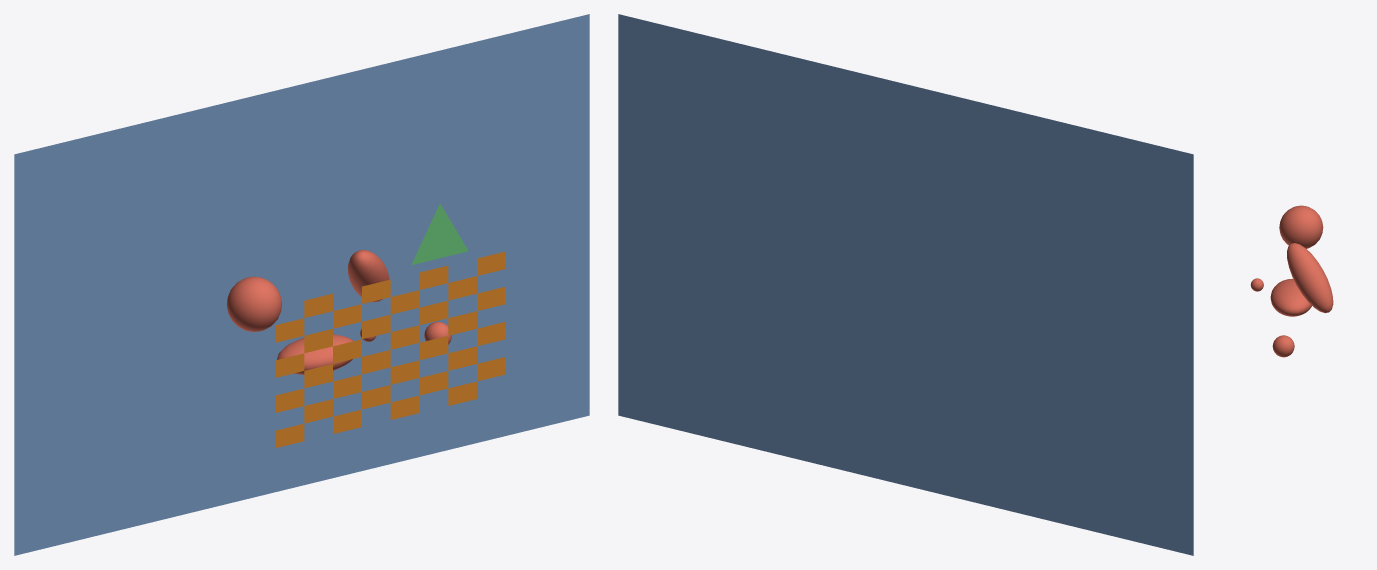
Rendered from cutout.gltf.
The picture shows the model from 3 angles, left to right: view 1: azimuth 30°, elevation 25°; view 2: azimuth 150°, elevation 25°; view 3: azimuth 270°, elevation 25°; orthographic projection. The views are drawn at different scales.
Visible parts, largest first — view 1: wall, checker, sphere0, triangle, sphere2, sphere1; view 2: wall; view 3: sphere2, sphere0, sphere1, sphere3.
Boxes of the visible parts, x1,y1,x2,y2 form: wall: (14, 14, 589, 555); checker: (275, 251, 505, 447); sphere0: (226, 276, 281, 331); triangle: (411, 203, 468, 264); sphere2: (348, 250, 389, 302); sphere1: (277, 334, 353, 374); wall: (618, 14, 1193, 555); sphere2: (1287, 243, 1333, 313); sphere0: (1279, 205, 1323, 248); sphere1: (1270, 278, 1311, 316); sphere3: (1272, 335, 1294, 357).
Size of the model in its own units: 6 by 4 by 1.6.
Materials: 4 (1 with a texture image).
